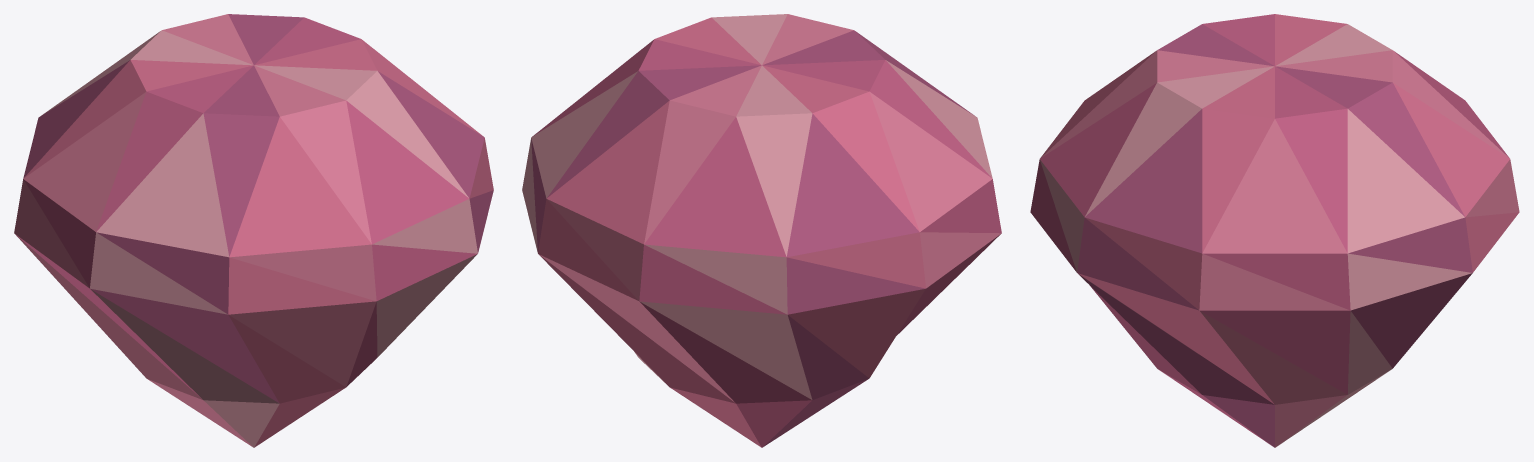
File: ART-44.glb
3 views of the same model, side by side, from view 1: azimuth 30°, elevation 25°; view 2: azimuth 150°, elevation 25°; view 3: azimuth 270°, elevation 25° (orthographic).
Visible parts, largest first — view 1: world; view 2: world; view 3: world.
Part boxes in pixels (<box>): world: <box>14,14,493,447</box>; world: <box>522,14,1001,447</box>; world: <box>1030,14,1519,447</box>.
Size of the model in its own units: 1.9 by 1.72 by 2.
